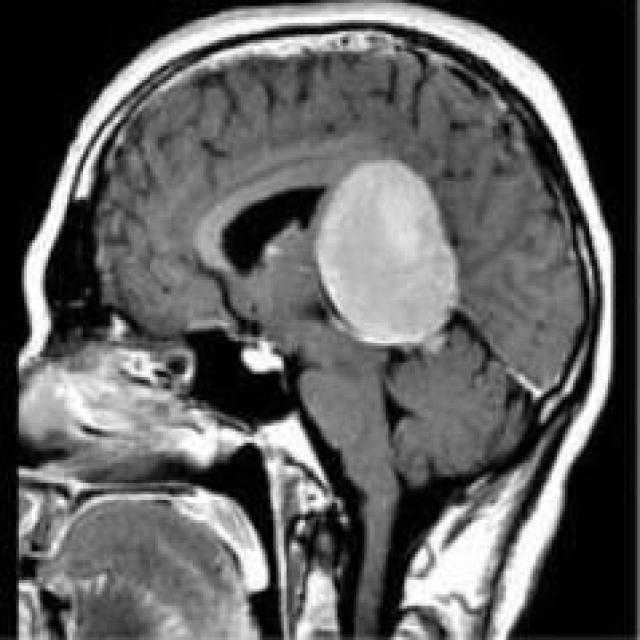Tumor: (316, 163, 458, 348)
